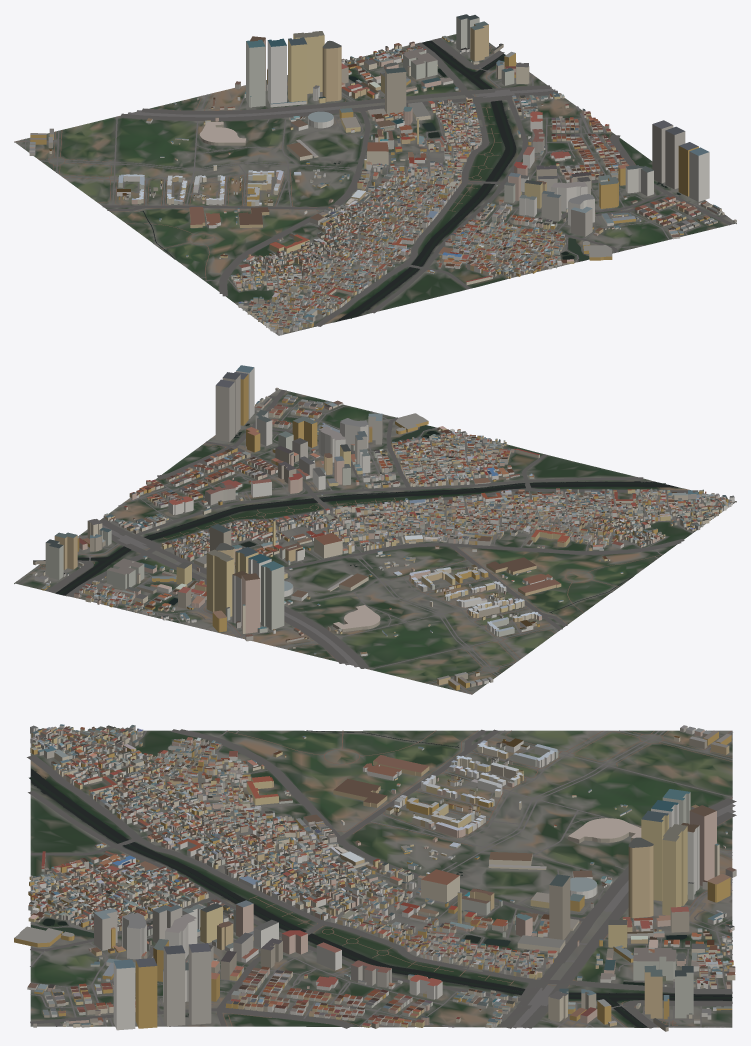
3 views of the same model, one above another, from view 1: azimuth 30°, elevation 25°; view 2: azimuth 150°, elevation 25°; view 3: azimuth 270°, elevation 25° (orthographic). The views are drawn at different scales.
Parts seen in each view (by area): view 1: buildings, ground, roads, water; view 2: buildings, ground, roads, water; view 3: buildings, ground, roads, water.
Boxes of the visible parts, bbox=[...] form: buildings: bbox=[29, 14, 736, 335]; ground: bbox=[14, 34, 736, 335]; roads: bbox=[14, 38, 733, 333]; water: bbox=[140, 40, 680, 321]; buildings: bbox=[32, 365, 734, 690]; ground: bbox=[14, 389, 736, 694]; roads: bbox=[16, 390, 734, 694]; water: bbox=[55, 423, 678, 613]; buildings: bbox=[14, 724, 736, 1031]; ground: bbox=[30, 730, 732, 1027]; roads: bbox=[27, 729, 736, 1028]; water: bbox=[29, 730, 732, 1027].
Size of the model in its own units: 1428 by 179 by 1444.
